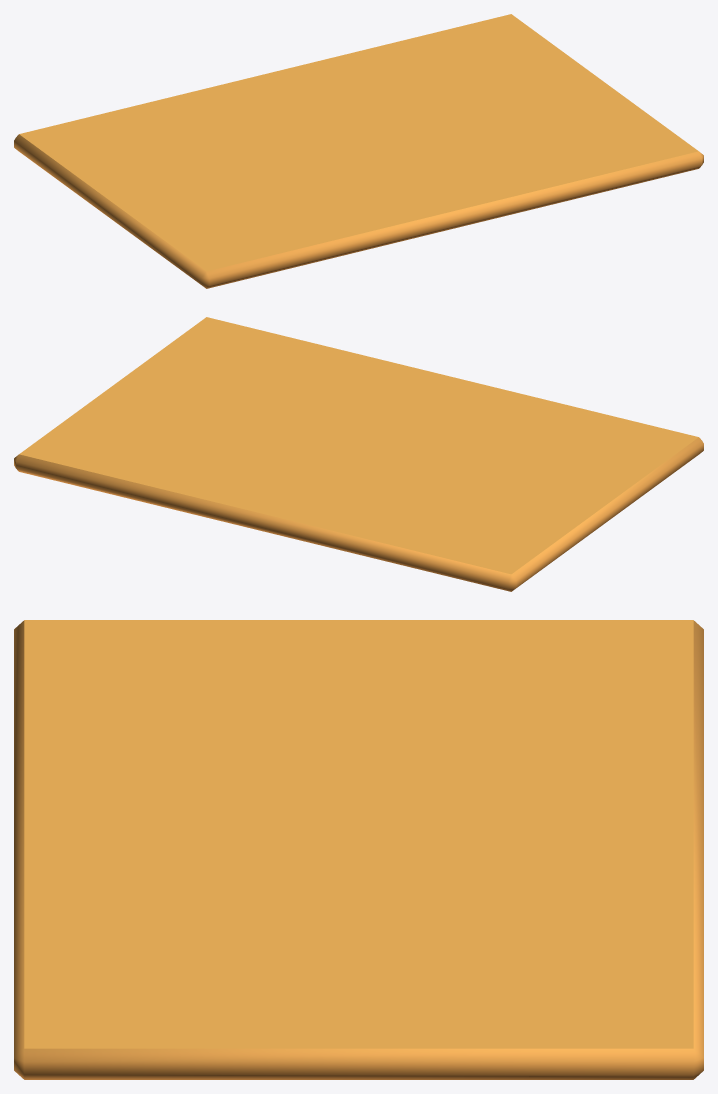
Rendered from kaykit-furniture-bits-rug-rectangle-a.glb.
3 views of the same model, one above another, from view 1: azimuth 30°, elevation 25°; view 2: azimuth 150°, elevation 25°; view 3: azimuth 270°, elevation 25° (orthographic). The views are drawn at different scales.
Parts seen in each view (by area): view 1: rug_rectangle_A; view 2: rug_rectangle_A; view 3: rug_rectangle_A.
Boxes of the visible parts, x1,y1,x2,y2 form: rug_rectangle_A: [14, 14, 703, 288]; rug_rectangle_A: [14, 317, 703, 591]; rug_rectangle_A: [14, 620, 703, 1079].
Bounding box in the file's own units: 3 × 0.1 × 2.
Materials: 1 (1 with a texture image).
